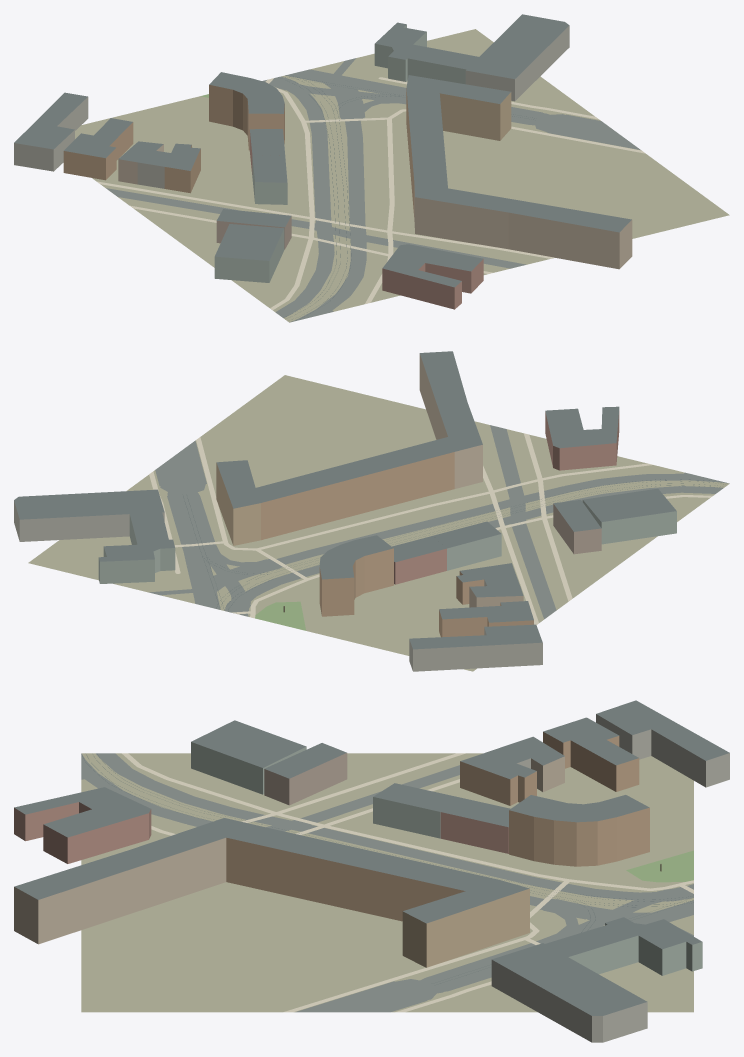
The model's file is sector-2_-7.glb.
The picture shows the model from 3 angles, top to bottom: view 1: azimuth 30°, elevation 25°; view 2: azimuth 150°, elevation 25°; view 3: azimuth 270°, elevation 25°; orthographic projection. The views are drawn at different scales.
Parts seen in each view (by area): view 1: 2:-7-ground, 2:-7-facade, 2:-7-roof, 2:-7-road, 2:-7-paving, 2:-7-rail; view 2: 2:-7-ground, 2:-7-facade, 2:-7-roof, 2:-7-road, 2:-7-paving, 2:-7-park; view 3: 2:-7-ground, 2:-7-facade, 2:-7-roof, 2:-7-road, 2:-7-paving, 2:-7-park.
Part boxes in pixels (<box>): 2:-7-ground: <box>75,29,729,322</box>; 2:-7-facade: <box>14,25,632,309</box>; 2:-7-roof: <box>14,14,631,287</box>; 2:-7-road: <box>106,58,640,322</box>; 2:-7-paving: <box>97,77,645,310</box>; 2:-7-rail: <box>285,75,534,319</box>; 2:-7-ground: <box>28,375,729,671</box>; 2:-7-facade: <box>14,354,676,671</box>; 2:-7-roof: <box>14,351,676,649</box>; 2:-7-road: <box>149,425,729,619</box>; 2:-7-paving: <box>149,433,712,624</box>; 2:-7-park: <box>255,601,306,630</box>; 2:-7-ground: <box>81,753,693,1012</box>; 2:-7-facade: <box>14,714,729,1042</box>; 2:-7-roof: <box>14,700,729,1015</box>; 2:-7-road: <box>81,753,693,1012</box>; 2:-7-paving: <box>122,753,693,1012</box>; 2:-7-park: <box>626,850,693,882</box>.
Bounding box in the file's own units: 244 × 16 × 234.
